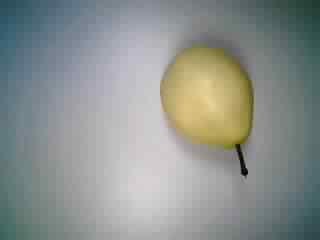pear: (151, 38, 270, 187)
